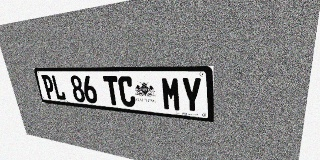6: (81, 75, 98, 104)
8: (69, 75, 86, 102)
C: (117, 76, 136, 107)
L: (51, 75, 66, 101)
M: (161, 77, 182, 112)
P: (41, 75, 56, 100)
T: (103, 76, 121, 106)
Y: (181, 77, 203, 114)
